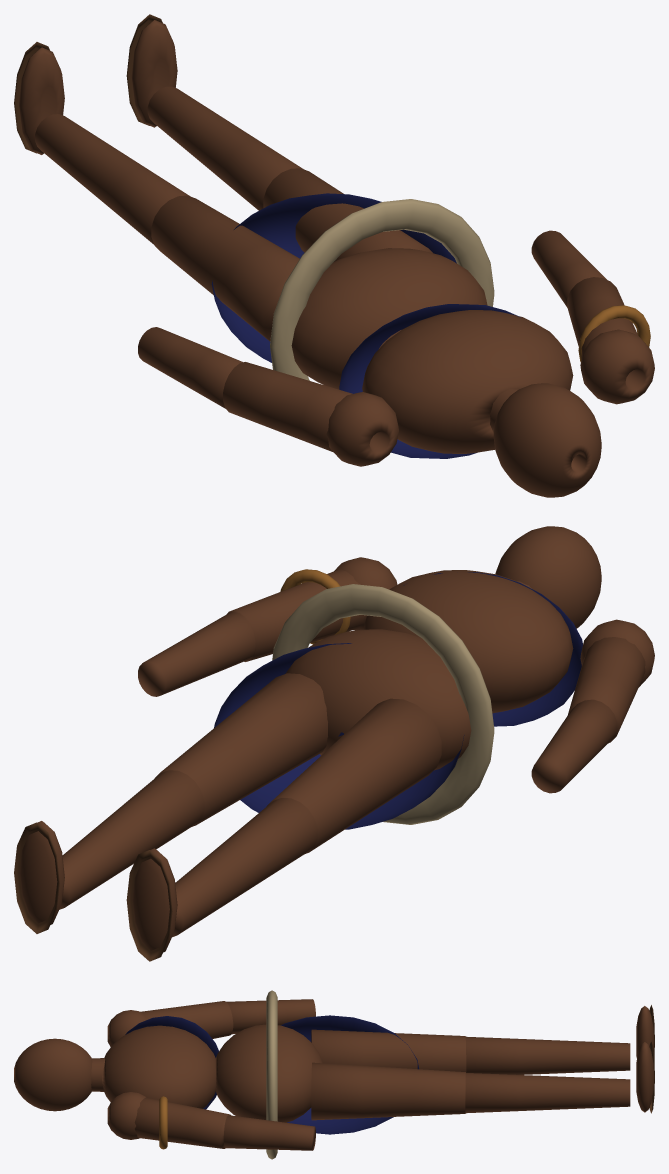
The model's file is GUARD_CLASS_V1.obj.
The picture shows the model from 3 angles, top to bottom: view 1: azimuth 30°, elevation 25°; view 2: azimuth 150°, elevation 25°; view 3: azimuth 270°, elevation 25°; orthographic projection. The views are drawn at different scales.
Parts seen in each view (by area): view 1: torso_upper, pelvis_lower, thigh.L, upperarm.L, shin_sandal.L, shin_sandal.R, head_generic, waist_sash_plain, upperarm.R, skirt_wrap_indigo, thigh.R, forearm_hand.L (+5 smaller); view 2: torso_upper, pelvis_lower, thigh.R, thigh.L, waist_sash_plain, shin_sandal.L, shin_sandal.R, head_generic, upperarm.L, forearm_hand.R, skirt_wrap_indigo, upperarm.R (+5 smaller); view 3: thigh.R, torso_upper, pelvis_lower, shin_sandal.R, shin_sandal.L, thigh.L, head_generic, upperarm.R, forearm_hand.R, skirt_wrap_indigo, upperarm.L, forearm_hand.L (+3 smaller).
Part boxes in pixels (x1,y1,x2,y2): torso_upper: (362, 310, 573, 453); pelvis_lower: (291, 248, 487, 389); thigh.L: (151, 195, 299, 341); upperarm.L: (223, 362, 398, 466); shin_sandal.L: (19, 47, 190, 244); shin_sandal.R: (131, 20, 303, 210); head_generic: (490, 383, 601, 497); waist_sash_plain: (270, 199, 494, 380); upperarm.R: (567, 277, 654, 404); skirt_wrap_indigo: (211, 193, 456, 362); thigh.R: (263, 168, 432, 261); forearm_hand.L: (138, 327, 242, 408); torso_upper: (363, 570, 573, 713); pelvis_lower: (285, 629, 471, 770); thigh.R: (155, 673, 327, 826); thigh.L: (266, 698, 441, 853); waist_sash_plain: (272, 584, 494, 824); shin_sandal.L: (132, 798, 317, 952); shin_sandal.R: (19, 770, 204, 924); head_generic: (495, 526, 601, 628); upperarm.L: (568, 619, 654, 743); forearm_hand.R: (138, 612, 255, 696); skirt_wrap_indigo: (214, 643, 464, 829); upperarm.R: (227, 557, 397, 661); thigh.R: (311, 1062, 465, 1120); torso_upper: (102, 1025, 215, 1108); pelvis_lower: (215, 1024, 322, 1122); shin_sandal.R: (465, 1042, 654, 1113); shin_sandal.L: (465, 1006, 654, 1074); thigh.L: (311, 1029, 466, 1072); head_generic: (14, 1038, 105, 1111); upperarm.R: (107, 1092, 231, 1148); forearm_hand.R: (223, 1115, 315, 1150); skirt_wrap_indigo: (281, 1015, 419, 1134); upperarm.L: (107, 1001, 233, 1046); forearm_hand.L: (226, 999, 315, 1034).
Bounding box in the file's own units: 0.898 × 0.47 × 1.77.
